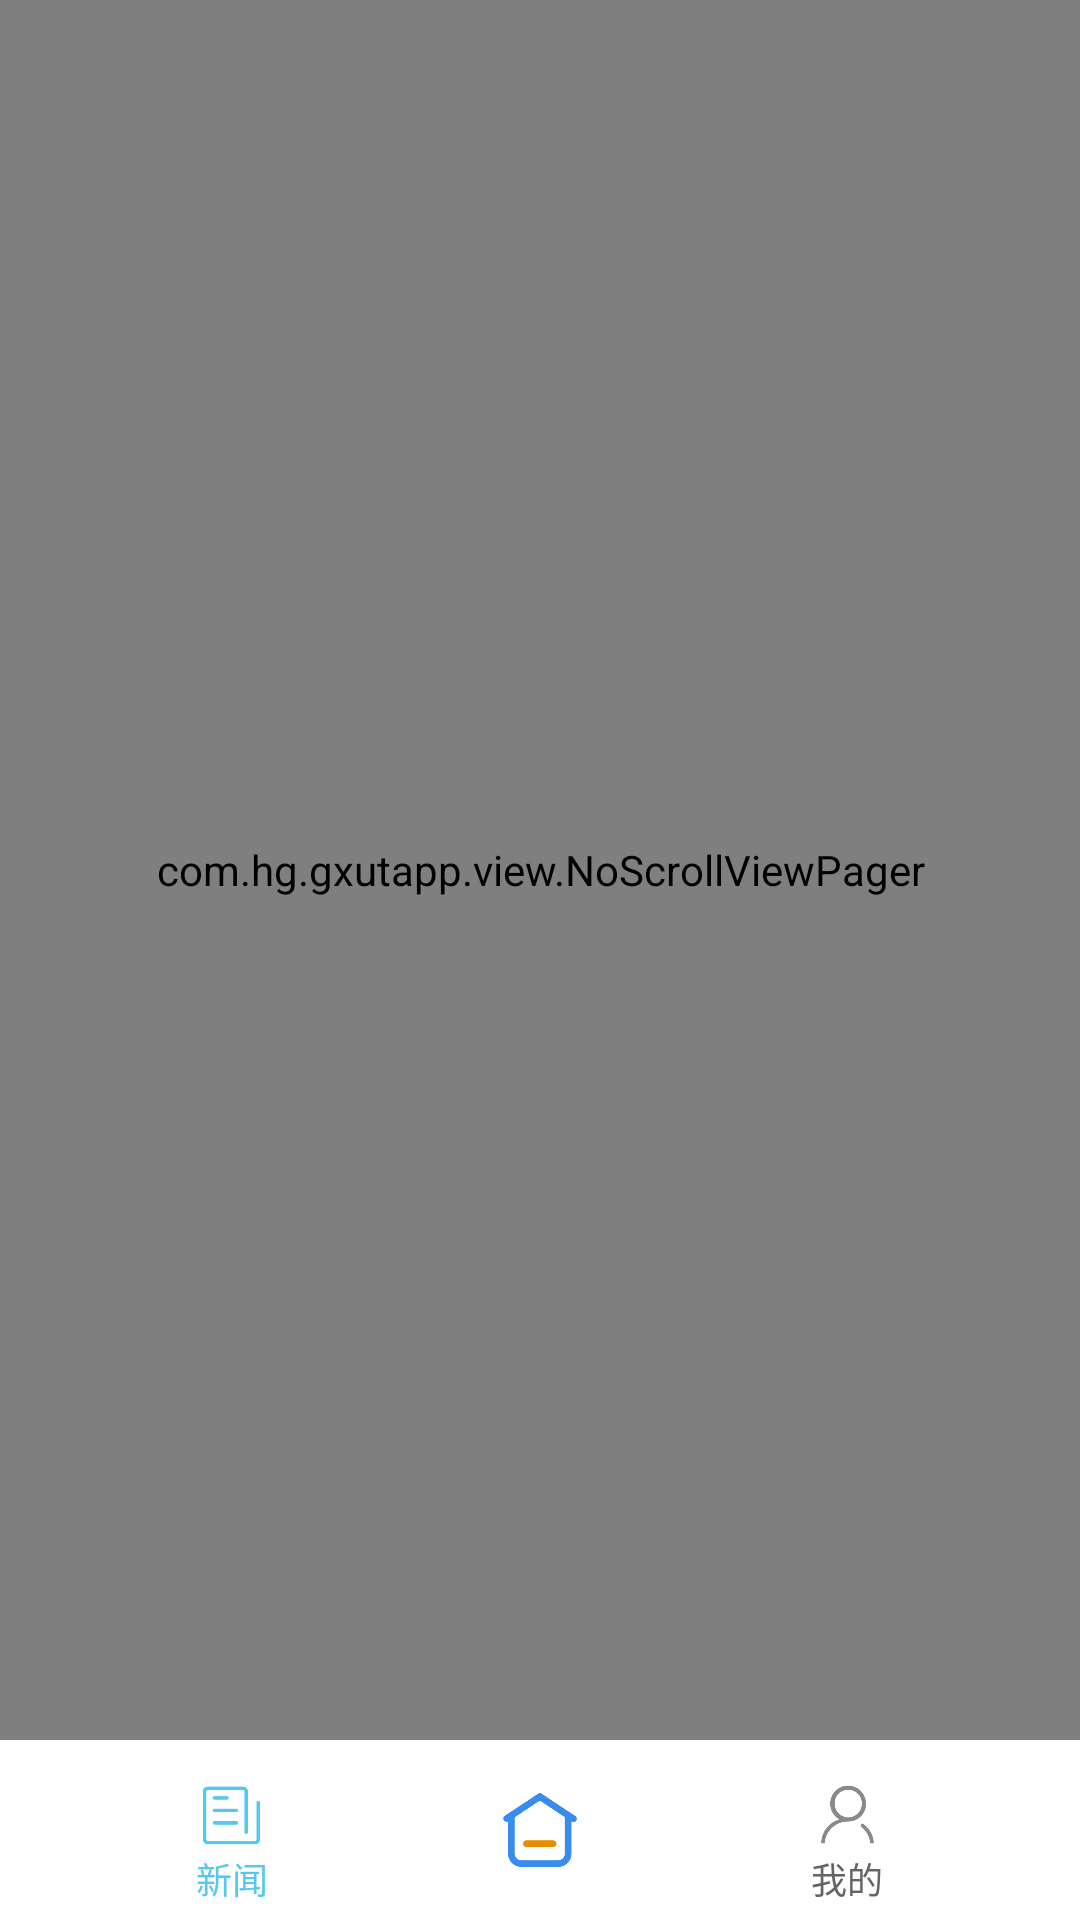

Icons on this 1080*1920 Android screen, each with the point to tap as (x=x, y=y):
home: (x=540, y=1830)
